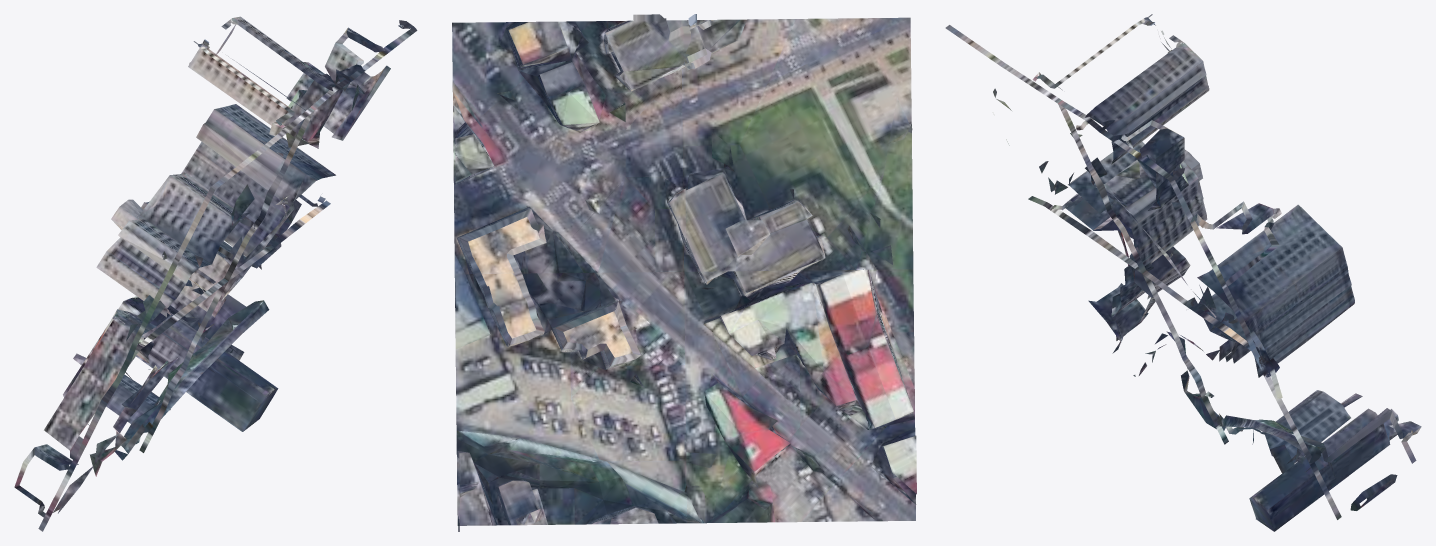
3 renders of one model, left to right at view 1: azimuth 30°, elevation 25°; view 2: azimuth 150°, elevation 25°; view 3: azimuth 270°, elevation 25°, orthographic. The views are drawn at different scales.
Bounding box in the file's own units: 158 × 165 × 155.
1 material, 1 textured.
